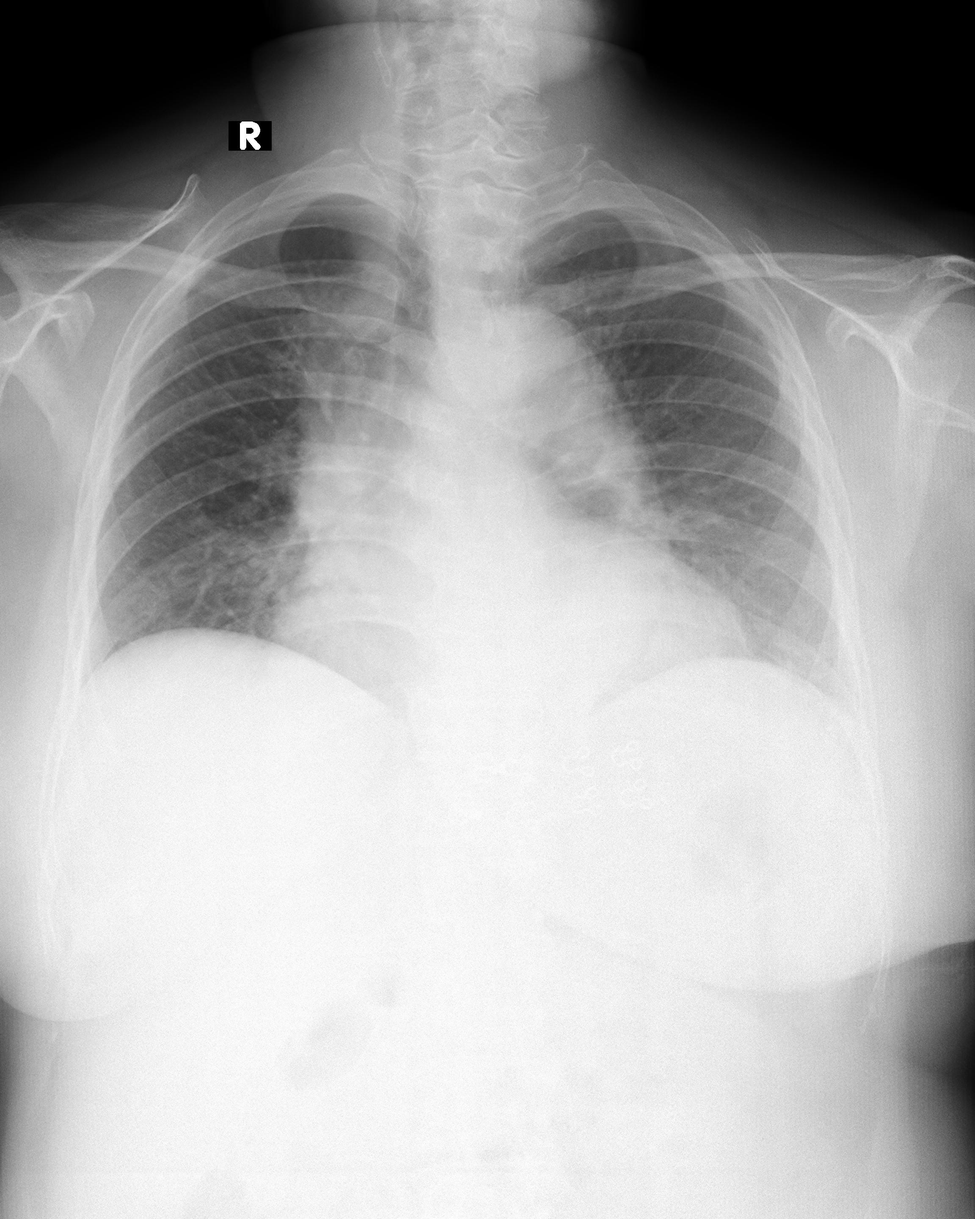Aortic enlargement: (440, 309, 599, 444)
Cardiomegaly: (268, 571, 750, 698)
